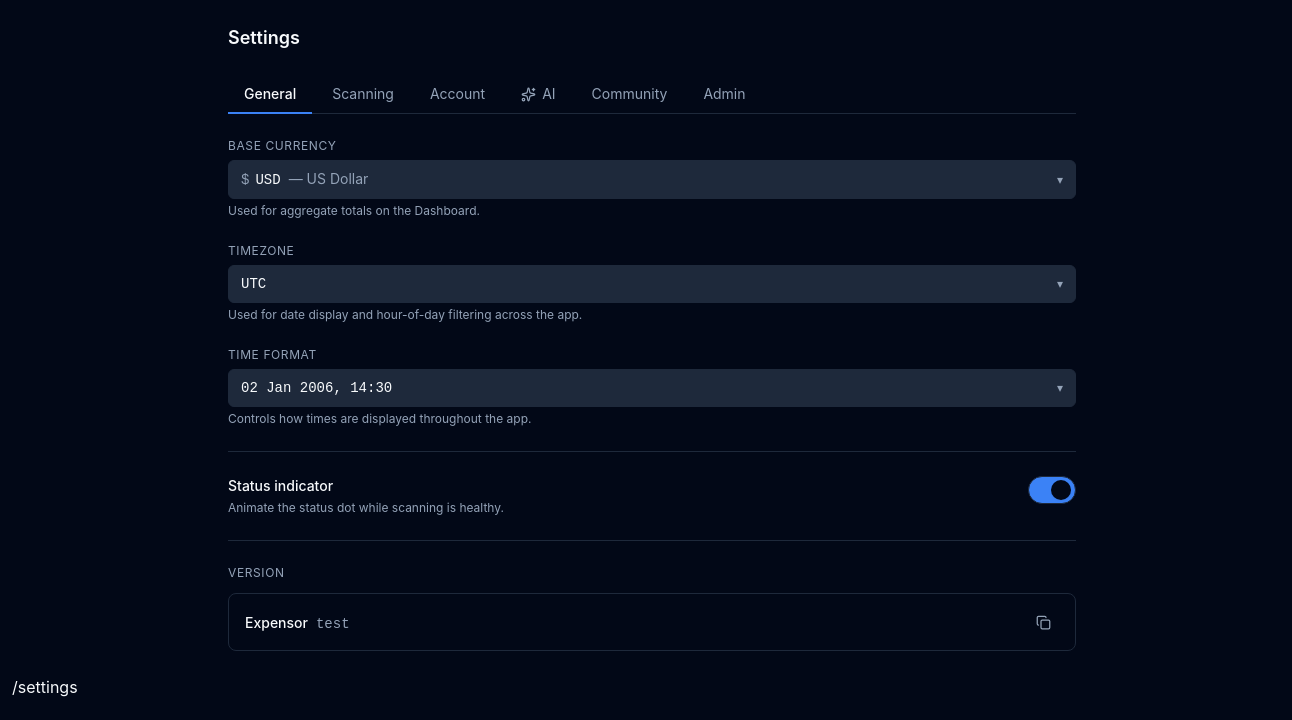
Test: Settings › updates the tab query param when the user clicks a tab
Click the button "Scanning".
click(363, 95)  # box [316,76,410,114]
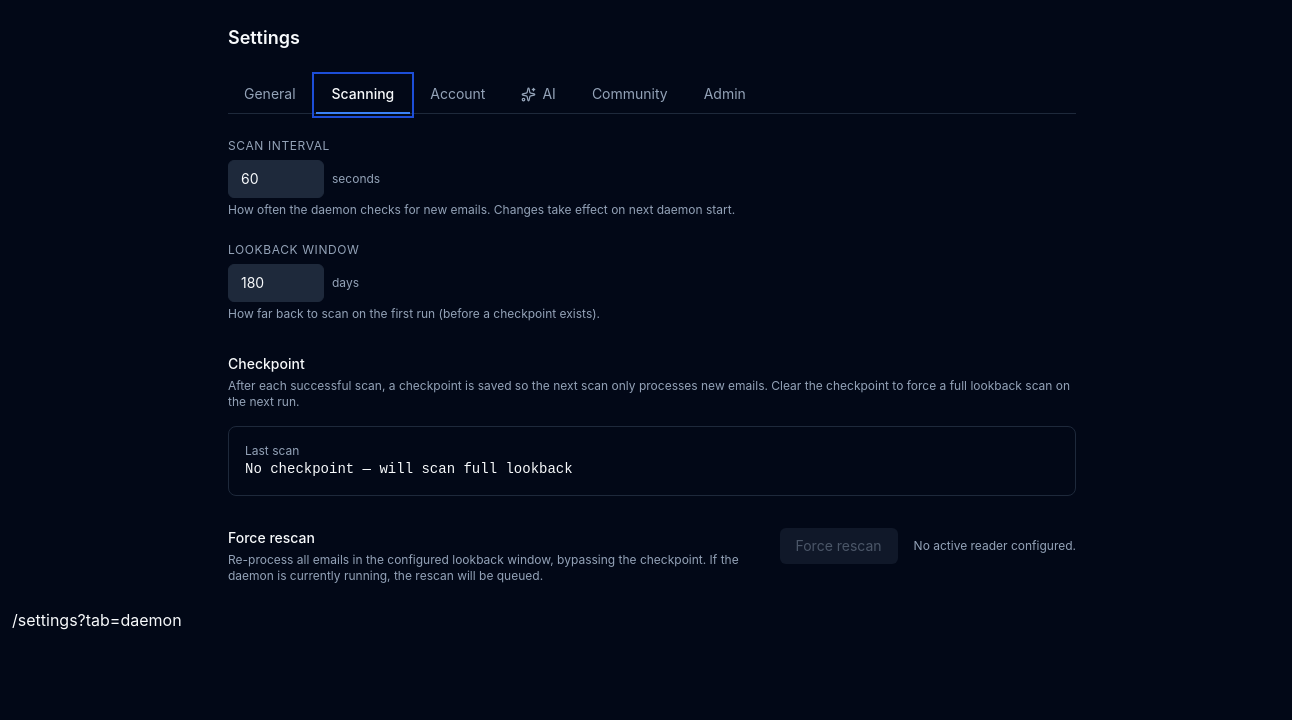
Result: the text "Scan interval" is shown at [228,138,330,153]
Result: the text with test id "location" reads "/settings?tab=daemon" at [12,610,182,630]
